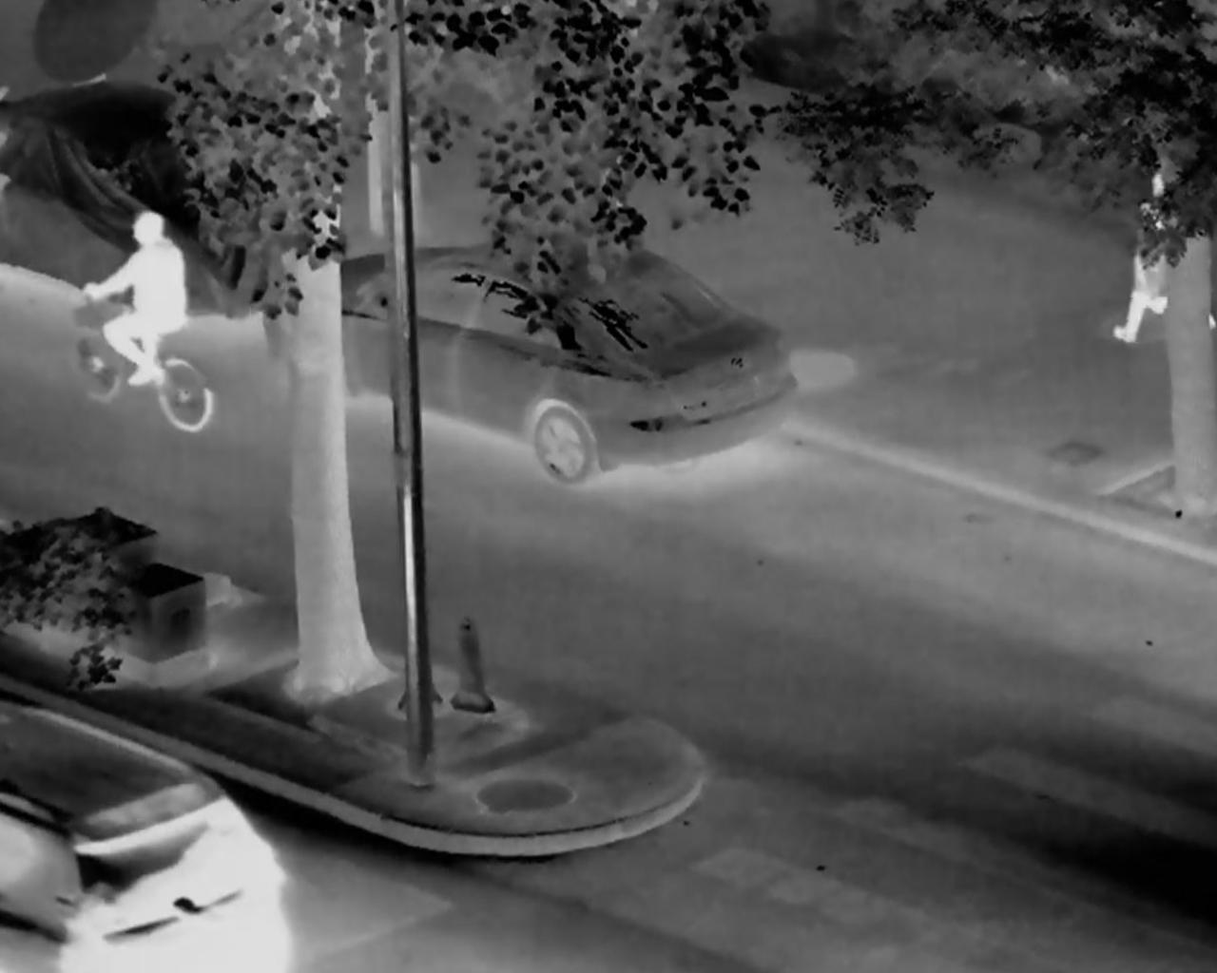person: (85, 213, 188, 386), (1112, 150, 1173, 348)
